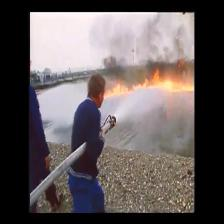fire: (107, 81, 193, 95)
smoke: (103, 23, 187, 67)
